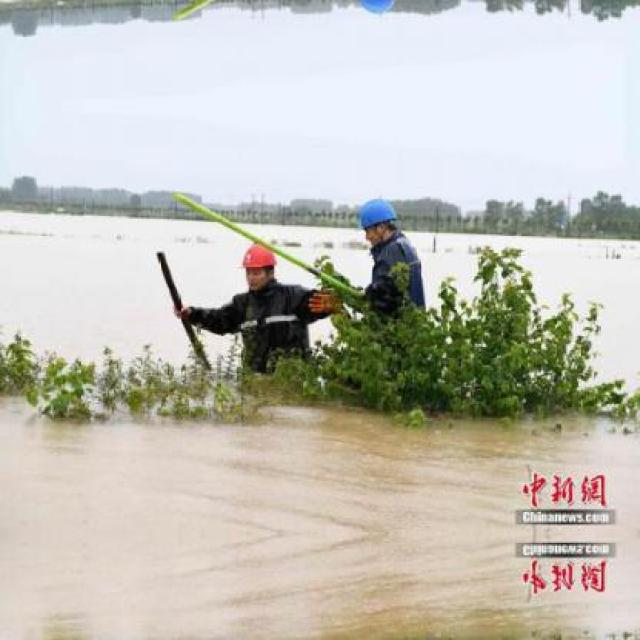helmet: (354, 194, 400, 246), (238, 242, 278, 290), (354, 0, 401, 19)
